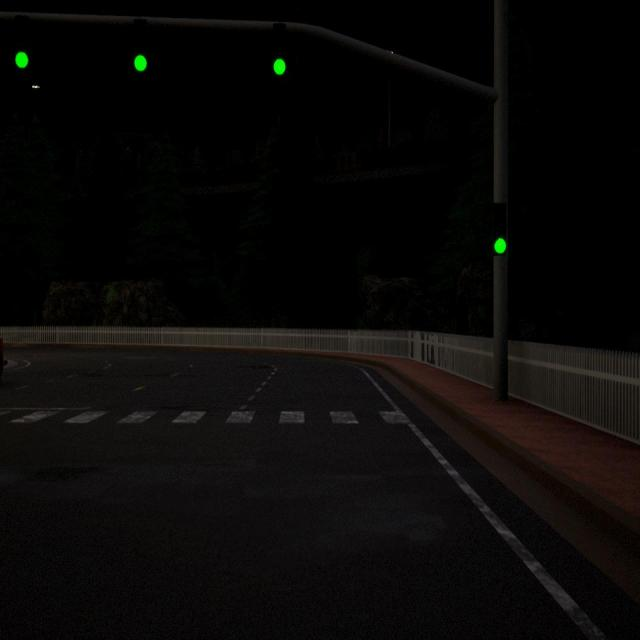traffic_light: (272, 23, 287, 75), (15, 14, 29, 68), (133, 18, 147, 72), (491, 204, 506, 254)
